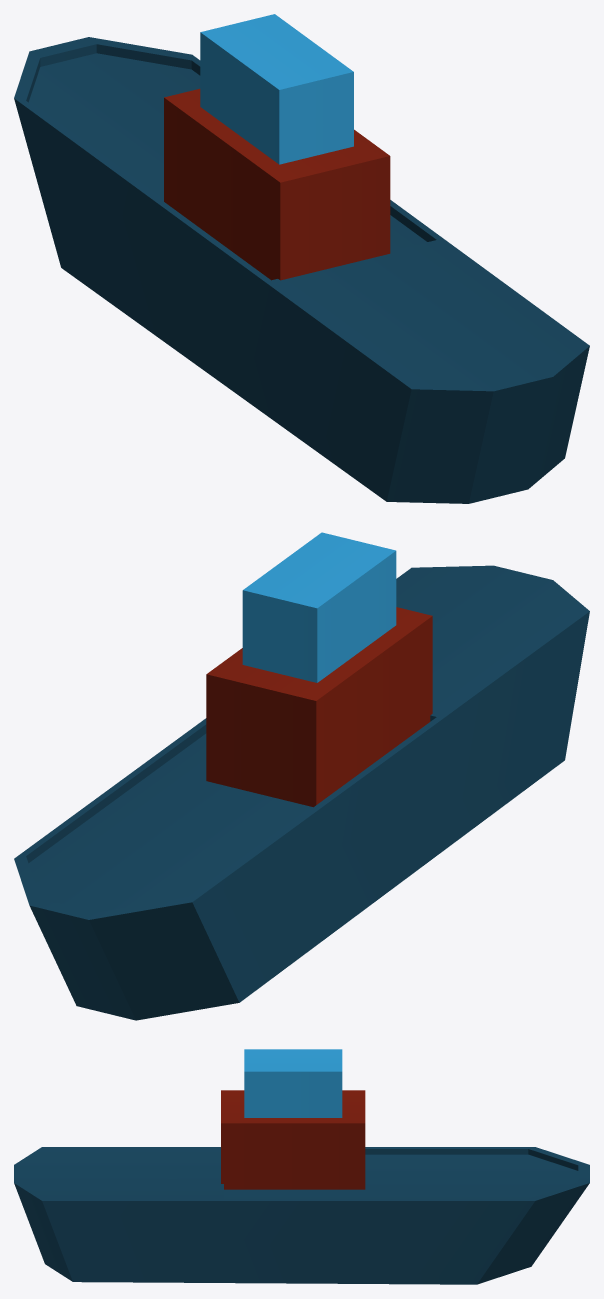
Rendered from boat 4.fbx.
3 views of the same model, one above another, from view 1: azimuth 30°, elevation 25°; view 2: azimuth 150°, elevation 25°; view 3: azimuth 270°, elevation 25° (orthographic). The views are drawn at different scales.
Parts seen in each view (by area): view 1: Cube.548; view 2: Cube.548; view 3: Cube.548.
Boxes of the visible parts, box(x1,y1,x2,y2) form: Cube.548: box(14, 14, 589, 503); Cube.548: box(14, 532, 589, 1020); Cube.548: box(14, 1049, 589, 1284).
Bounding box in the file's own units: 5.17 × 8.52 × 23.31.
Materials: 1 (1 with a texture image).
